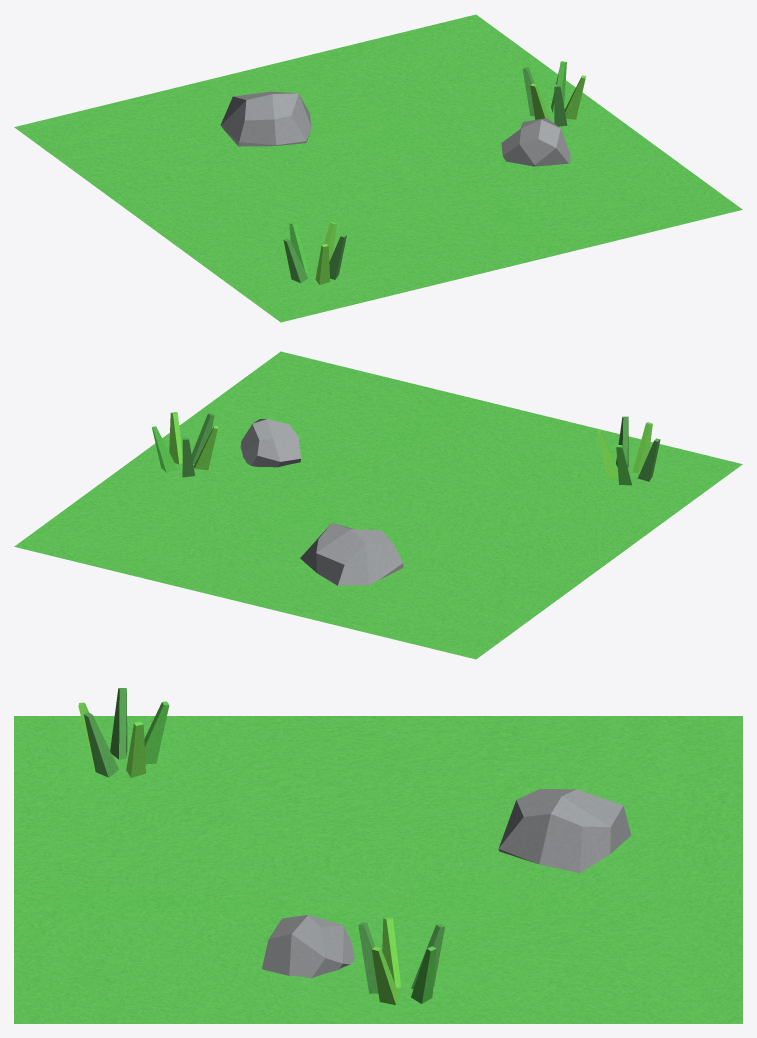
Rendered from park_8.fbx.
The picture shows the model from 3 angles, top to bottom: view 1: azimuth 30°, elevation 25°; view 2: azimuth 150°, elevation 25°; view 3: azimuth 270°, elevation 25°; orthographic projection. The views are drawn at different scales.
Visible parts, largest first — view 1: park_green.020, stone.022, stone.023, grass.036, grass.034; view 2: park_green.020, stone.022, stone.023, grass.034, grass.036; view 3: park_green.020, stone.022, stone.023, grass.036, grass.034.
Part boxes in pixels (x1,y1,x2,y2): park_green.020: [14, 14, 742, 322]; stone.022: [220, 91, 311, 146]; stone.023: [501, 118, 570, 166]; grass.036: [283, 222, 346, 284]; grass.034: [522, 61, 586, 126]; park_green.020: [14, 351, 742, 659]; stone.022: [300, 523, 403, 585]; stone.023: [240, 419, 300, 467]; grass.034: [152, 412, 218, 477]; grass.036: [597, 416, 660, 485]; park_green.020: [14, 716, 742, 1023]; stone.022: [498, 789, 631, 872]; stone.023: [262, 915, 354, 978]; grass.036: [78, 688, 169, 777]; grass.034: [358, 917, 444, 1004].
Bounding box in the file's own units: 2 × 0.3337 × 2.
2 materials, 2 textured.
